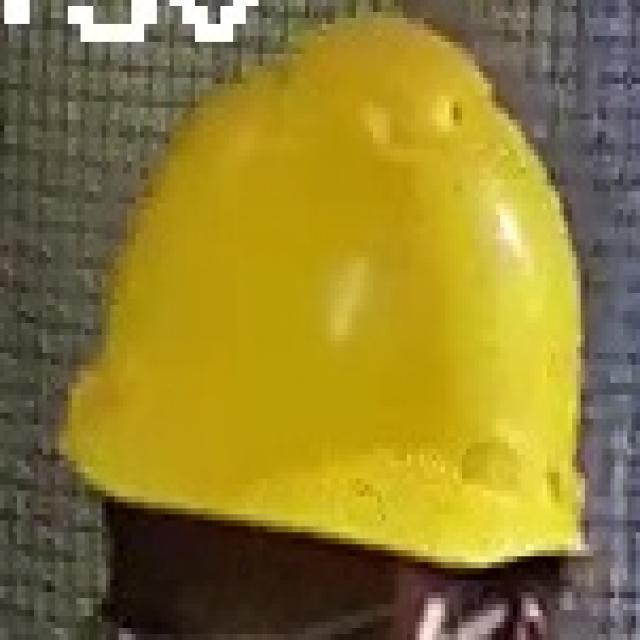yellow helmet: (46, 9, 621, 574)
